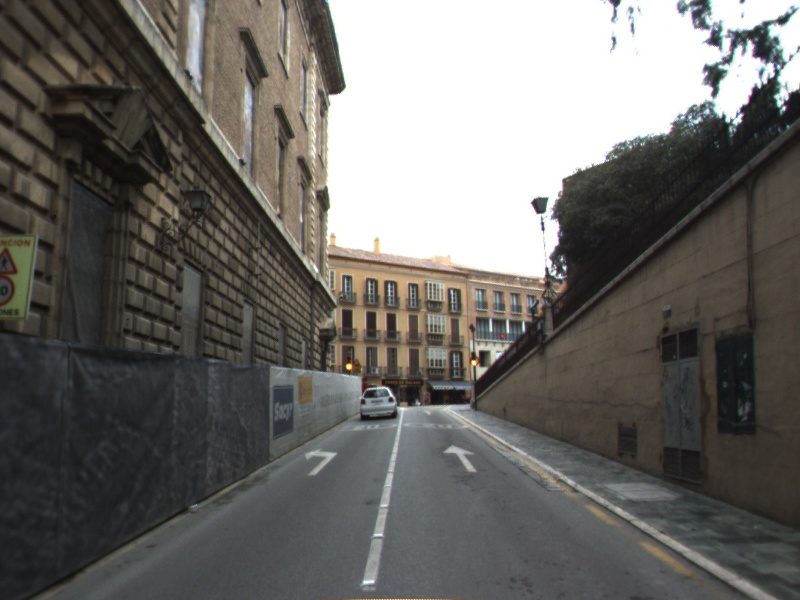LEFT: (303, 447, 339, 477)
STRAIGHT: (441, 443, 479, 474)
